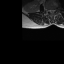CCS_normal: (51, 7, 53, 15)
LFS_stenosis: (55, 6, 57, 12)
LLS_normal: (53, 7, 55, 15)
RFS_normal: (47, 7, 49, 14)
RLS_normal: (49, 7, 51, 14)
